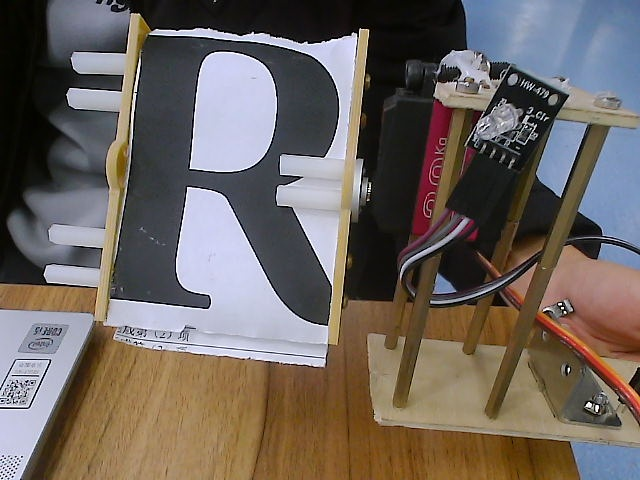R: (44, 12, 405, 405)
